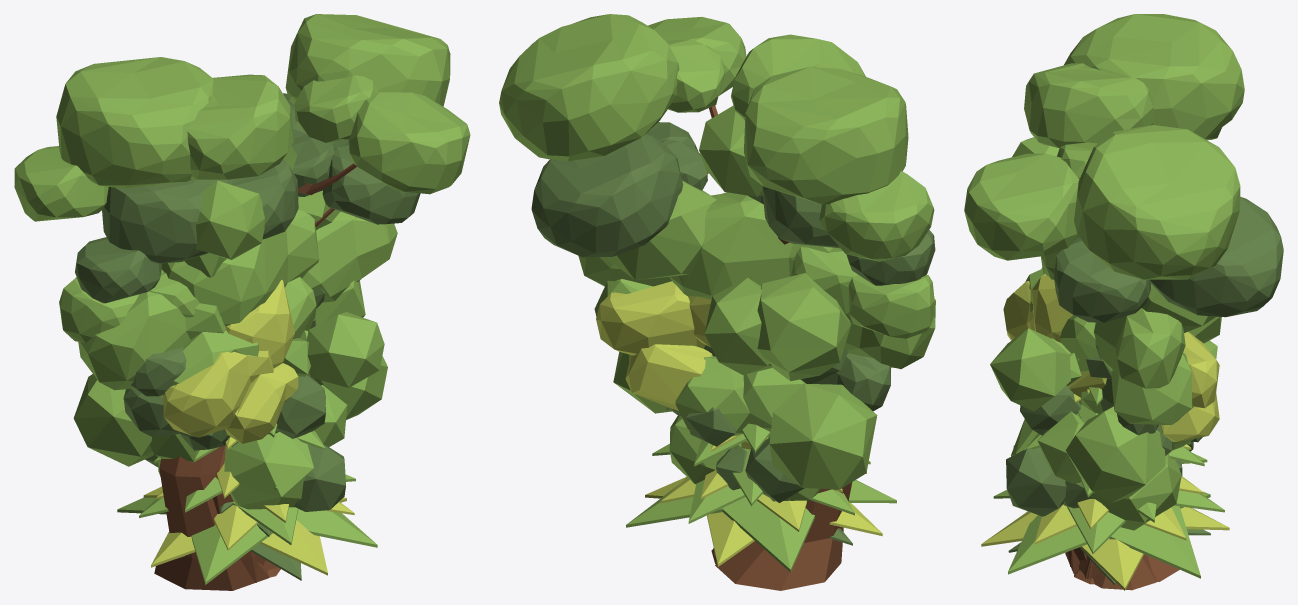
The model's file is trees.fbx.
3 renders of one model, left to right at view 1: azimuth 30°, elevation 25°; view 2: azimuth 150°, elevation 25°; view 3: azimuth 270°, elevation 25°, orthographic.
Visible parts, largest first — view 1: polySurface108, polySurface138, polySurface122, polySurface96, polySurface146, polySurface159, polySurface24, polySurface74, polySurface169, polySurface128, polySurface195; view 2: polySurface108, polySurface96, polySurface122, polySurface138, polySurface146, polySurface159, polySurface169, polySurface24, polySurface74, polySurface128; view 3: polySurface108, polySurface96, polySurface122, polySurface138, polySurface159, polySurface146, polySurface169, polySurface74, polySurface24, polySurface128.
Boxes of the visible parts, box(x1,y1,x2,y2) form: polySurface108: box(14, 14, 470, 590); polySurface138: box(78, 209, 397, 398); polySurface122: box(75, 93, 420, 582); polySurface96: box(73, 146, 387, 466); polySurface146: box(163, 280, 298, 577); polySurface159: box(117, 423, 377, 584); polySurface24: box(158, 431, 313, 509); polySurface74: box(145, 287, 345, 511); polySurface169: box(143, 437, 354, 575); polySurface128: box(123, 324, 316, 450); polySurface195: box(177, 441, 301, 580); polySurface108: box(499, 14, 934, 590); polySurface96: box(605, 105, 877, 563); polySurface122: box(531, 122, 935, 285); polySurface138: box(578, 192, 935, 369); polySurface146: box(596, 281, 896, 411); polySurface159: box(626, 407, 896, 572); polySurface169: box(645, 434, 882, 566); polySurface24: box(669, 368, 820, 501); polySurface74: box(685, 348, 847, 502); polySurface128: box(665, 345, 891, 415); polySurface108: box(964, 14, 1244, 581); polySurface96: box(990, 137, 1221, 590); polySurface122: box(1041, 197, 1283, 566); polySurface138: box(1025, 236, 1193, 424); polySurface159: box(993, 358, 1224, 578); polySurface146: box(1003, 274, 1219, 584); polySurface169: box(981, 389, 1229, 590); polySurface74: box(1006, 340, 1202, 516); polySurface24: box(1011, 391, 1181, 530); polySurface128: box(1100, 378, 1173, 455).
Bounding box in the file's own units: 1075 × 1229 × 719.
